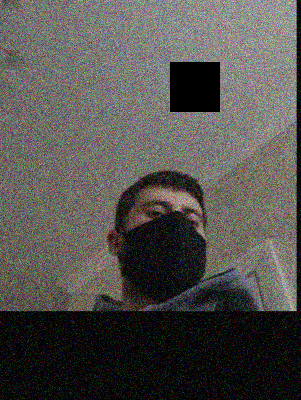with_mask: (124, 195, 206, 298)
